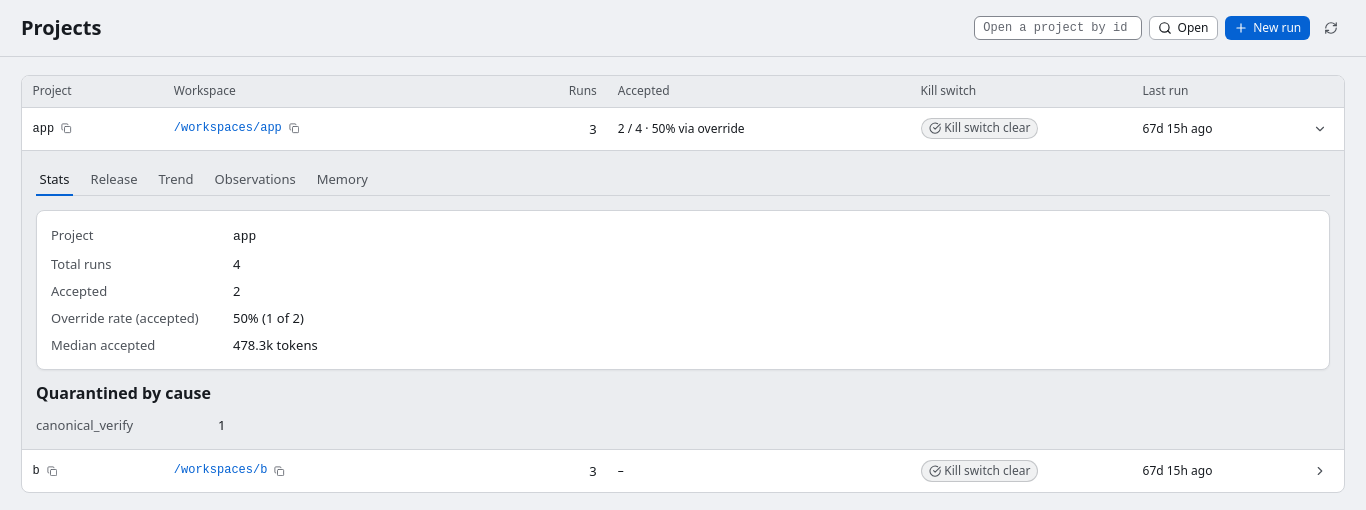
opening project B after project A never shows A's figures in B's panel
Expected: the text "Total runs" is shown, [51,255,112,273]
Expected: the text "4" is shown, [233,255,240,273]
Click the button named "Show details for /workspaces/b" at [1320, 471], box [1306,457,1334,485]
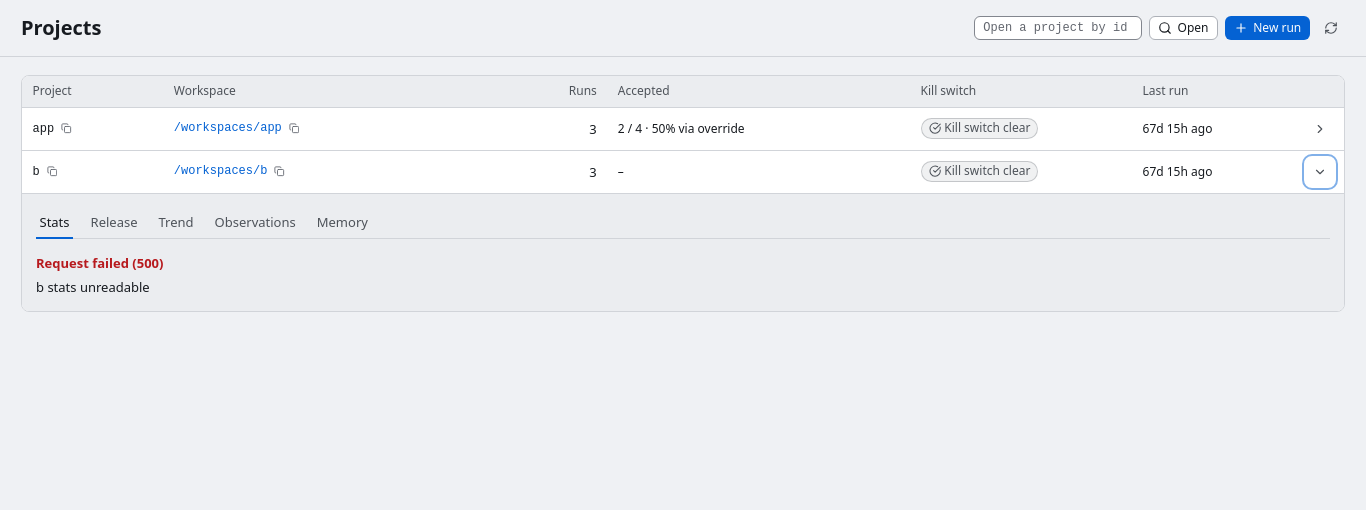
Expected: the text "b stats unreadable" is shown, [36,276,150,296]
Expected: the text "Total runs" is gone
